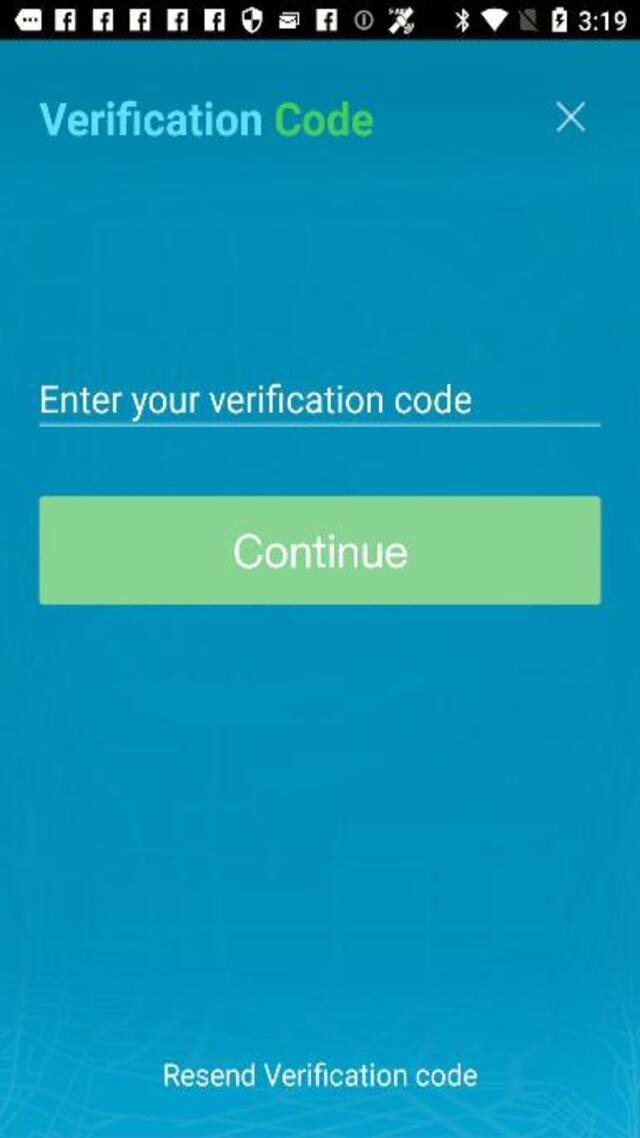Icon: (554, 100, 586, 134)
Text: (42, 382, 470, 422), (38, 97, 374, 138), (160, 1060, 478, 1092), (228, 530, 414, 574)
TextButton: (38, 496, 600, 604)
